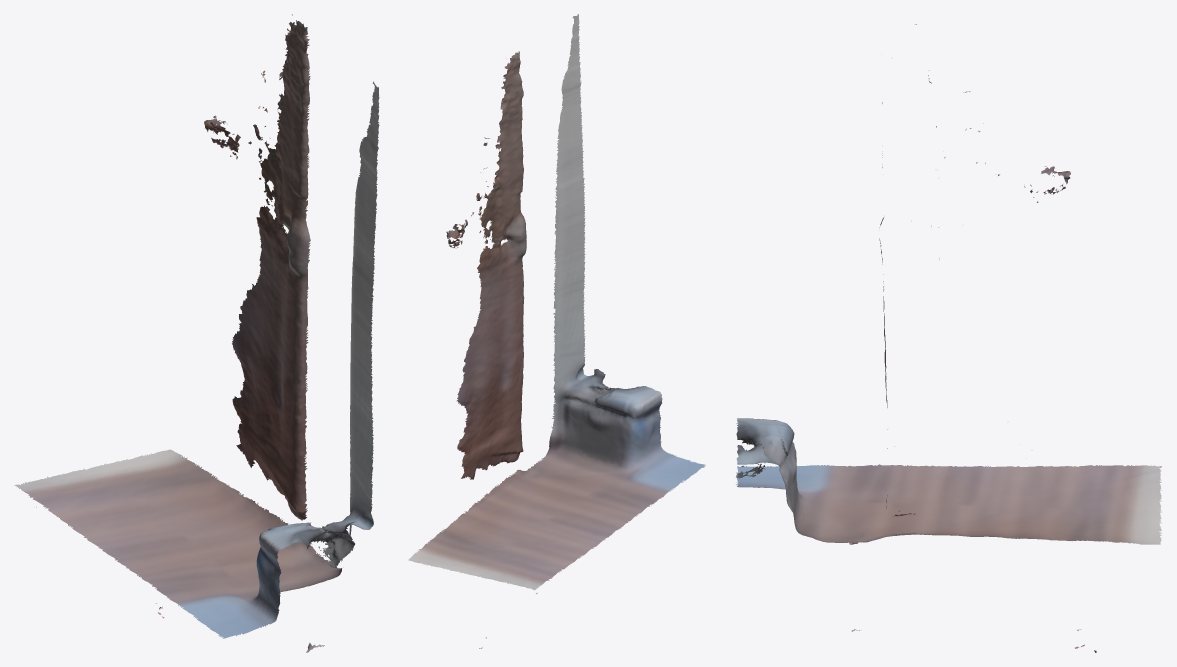
File: apartment-full-63-65e8c1bb05be.glb
3 renders of one model, left to right at view 1: azimuth 30°, elevation 25°; view 2: azimuth 150°, elevation 25°; view 3: azimuth 270°, elevation 25°, orthographic. The views are drawn at different scales.
Size of the model in its own units: 0.574 by 2.23 by 1.31.
